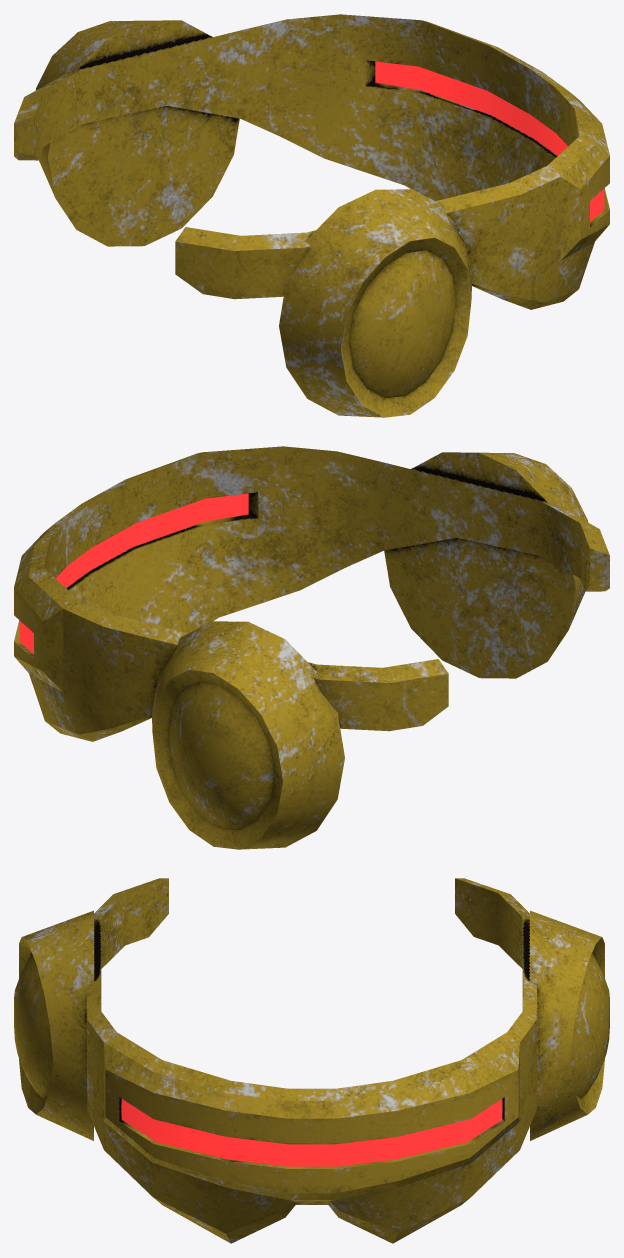
3 renders of one model, top to bottom at view 1: azimuth 30°, elevation 25°; view 2: azimuth 150°, elevation 25°; view 3: azimuth 270°, elevation 25°, orthographic. The views are drawn at different scales.
Parts seen in each view (by area): view 1: galsses1_low, galsses2_low, galsses3_low; view 2: galsses1_low, galsses2_low, galsses3_low; view 3: galsses1_low, galsses2_low, galsses3_low.
Part boxes in pixels (x1,y1,x2,y2): galsses1_low: (14,14,609,309); galsses2_low: (35,20,471,417); galsses3_low: (375,61,604,221); galsses1_low: (14,446,609,741); galsses2_low: (152,452,588,849); galsses3_low: (19,493,248,653); galsses1_low: (87,878,536,1243); galsses2_low: (14,910,609,1140); galsses3_low: (121,1099,502,1166).
Size of the model in its own units: 229 by 104 by 265.
Materials: 1 (1 with a texture image).
